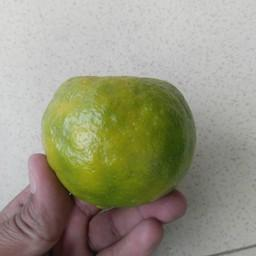Good_orange: (40, 71, 200, 209)
